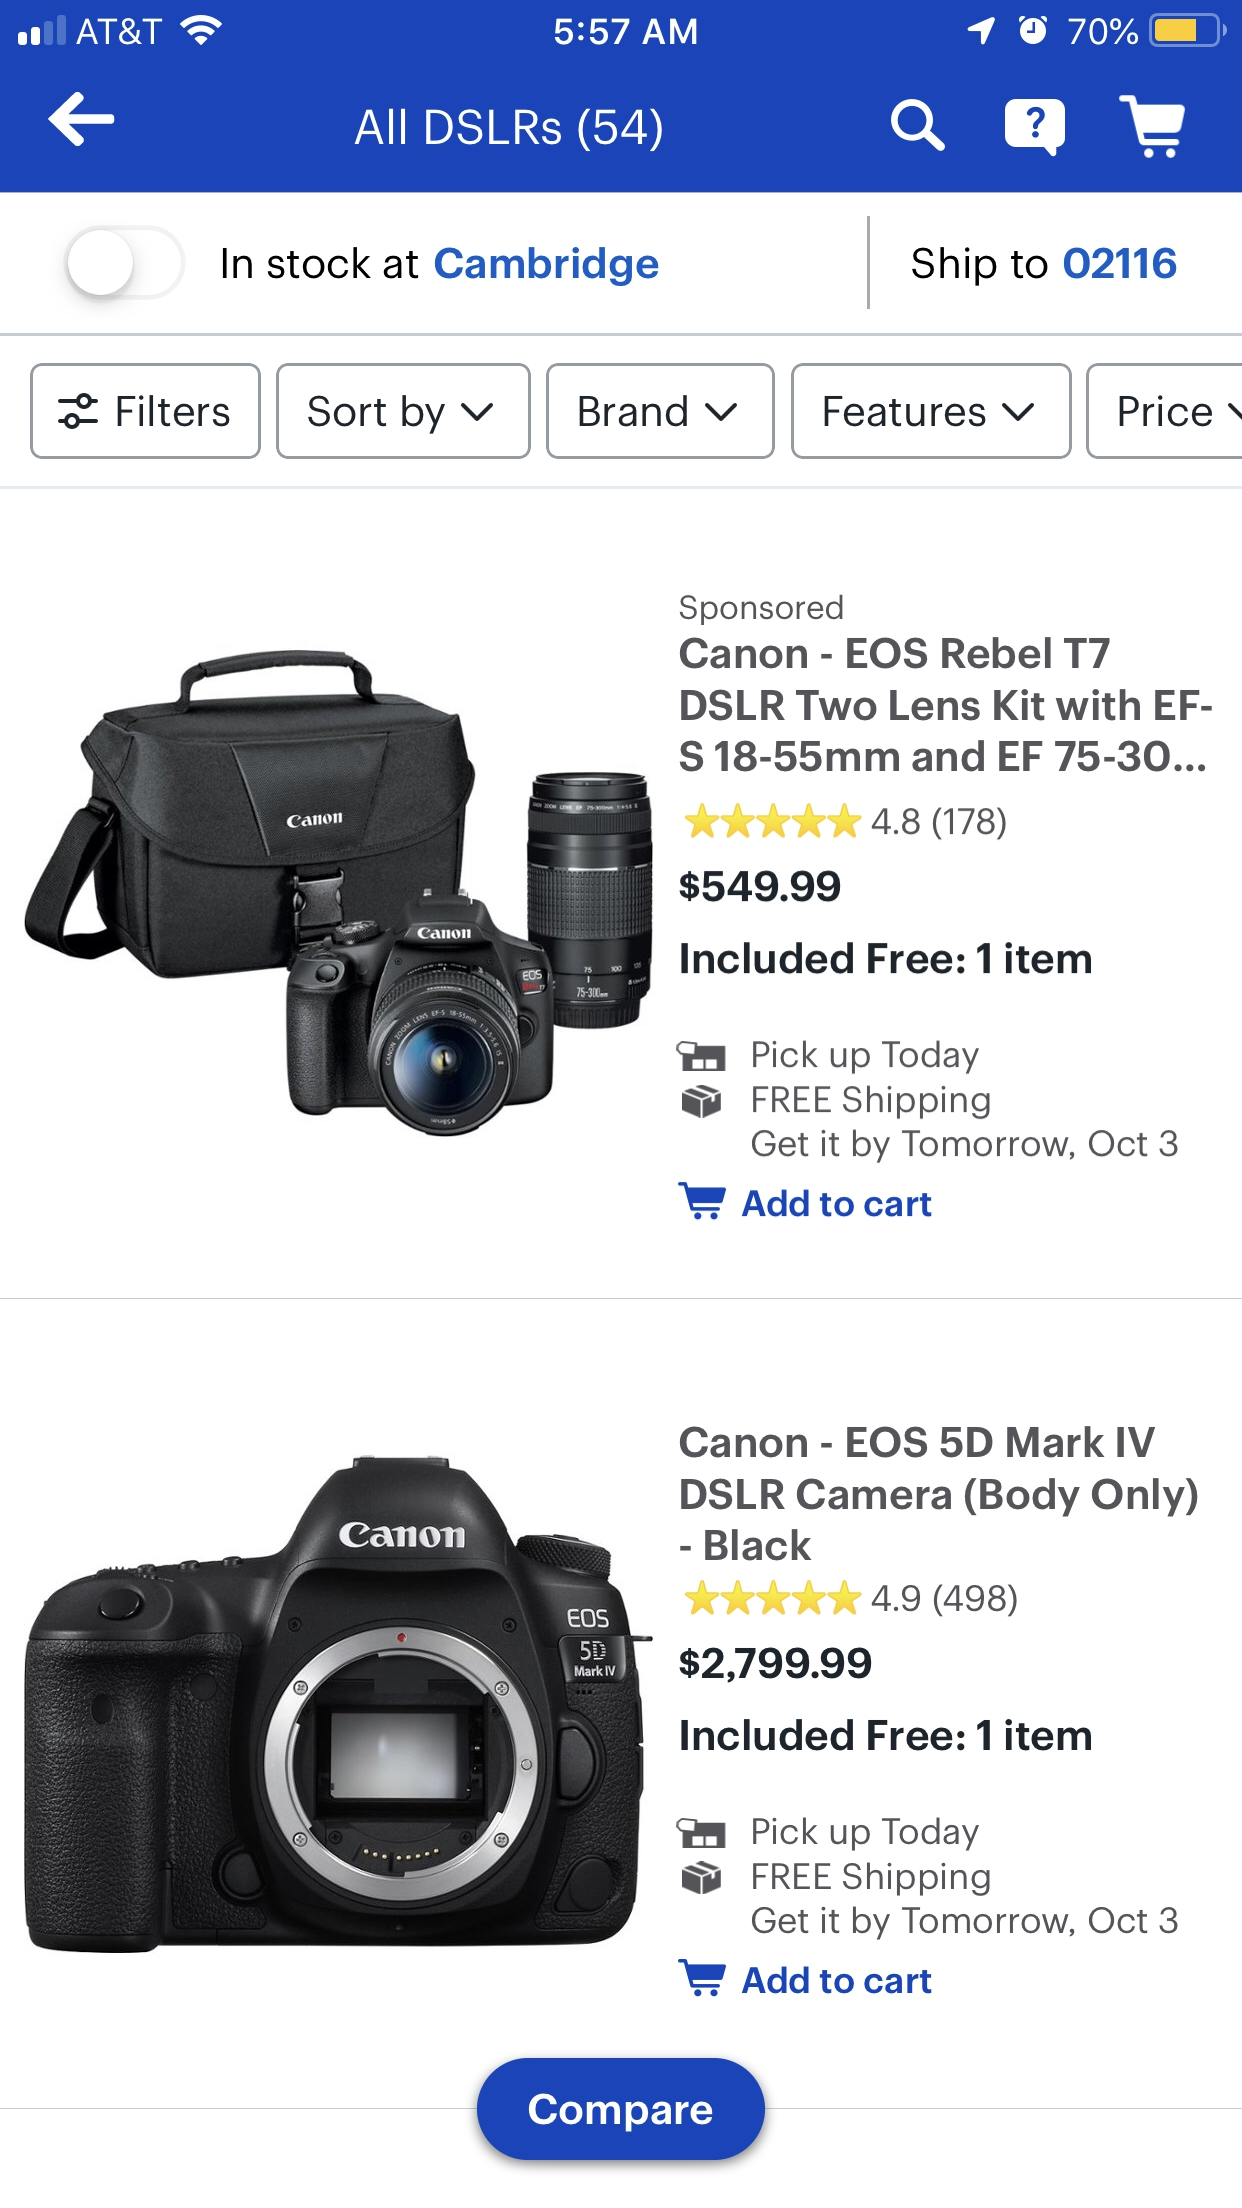Icon: (685, 1579, 863, 1617), (685, 804, 863, 840), (1118, 96, 1186, 161), (49, 93, 117, 149), (1004, 99, 1066, 158), (890, 99, 946, 153), (678, 1958, 726, 1999), (678, 1181, 726, 1221), (705, 403, 739, 423), (461, 403, 494, 422), (1002, 403, 1034, 422)
Image: (24, 1454, 655, 1955), (24, 651, 654, 1137), (676, 1040, 726, 1072), (676, 1818, 726, 1849), (681, 1084, 722, 1119), (682, 1861, 722, 1896)
Switch: (64, 226, 187, 302)
Text: (679, 637, 1213, 773), (679, 1425, 1198, 1562), (751, 1817, 1178, 1941), (752, 1040, 1178, 1165), (223, 246, 660, 288), (353, 108, 663, 153), (681, 942, 1092, 975), (681, 1718, 1092, 1752), (911, 247, 1177, 287), (679, 1647, 870, 1680), (742, 1189, 933, 1218), (742, 1965, 933, 1994), (679, 594, 845, 626), (679, 870, 842, 902), (870, 1583, 1018, 1618), (872, 805, 1007, 842)
TextButton: (478, 2058, 766, 2161), (792, 362, 1074, 459), (276, 362, 532, 459), (30, 362, 262, 459), (546, 362, 776, 459), (1086, 362, 1242, 461)
UpperTaskBar: (2, 2, 1242, 49)
